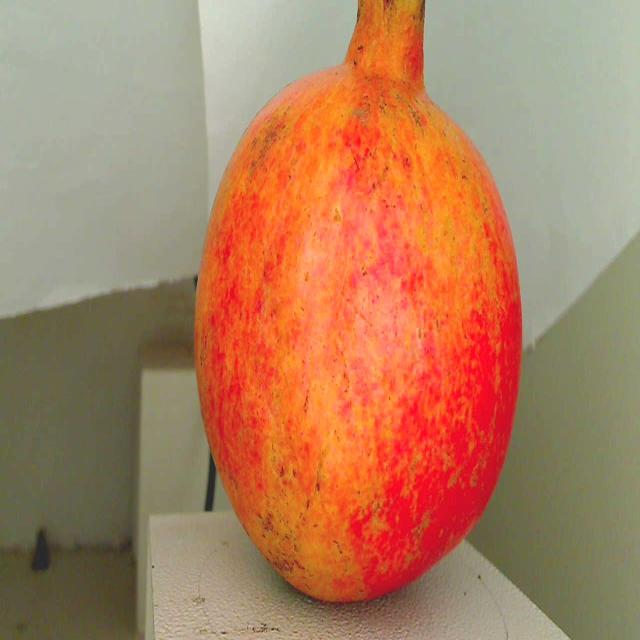pomegranate: (183, 0, 526, 606)
